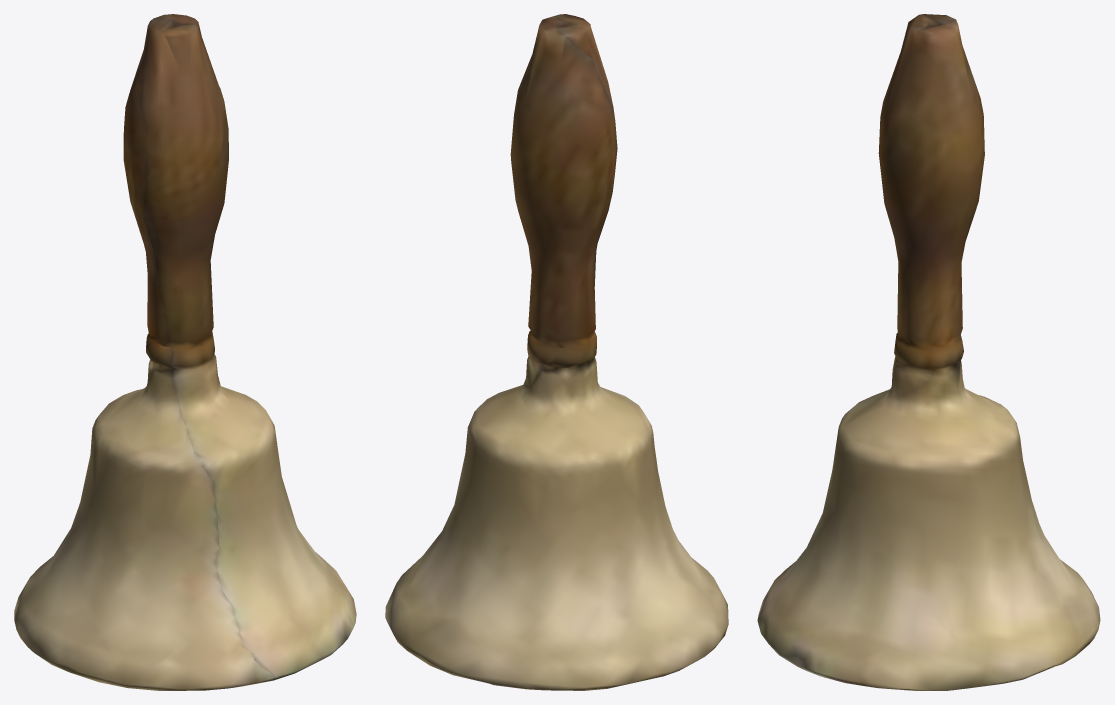
File: Cole_Hardware_School_Bell_Solid_Brass_38-medium.glb
3 renders of one model, left to right at view 1: azimuth 30°, elevation 25°; view 2: azimuth 150°, elevation 25°; view 3: azimuth 270°, elevation 25°, orthographic.
Visible parts, largest first — view 1: Cole_Hardware_School_Bell_Solid_Brass_38; view 2: Cole_Hardware_School_Bell_Solid_Brass_38; view 3: Cole_Hardware_School_Bell_Solid_Brass_38.
Boxes of the visible parts, box(x1,y1,x2,y2) form: Cole_Hardware_School_Bell_Solid_Brass_38: box(14, 14, 356, 690); Cole_Hardware_School_Bell_Solid_Brass_38: box(385, 14, 728, 690); Cole_Hardware_School_Bell_Solid_Brass_38: box(757, 14, 1100, 690).
Size of the model in its own units: 0.083 by 0.1596 by 0.083.
Materials: 1 (1 with a texture image).
